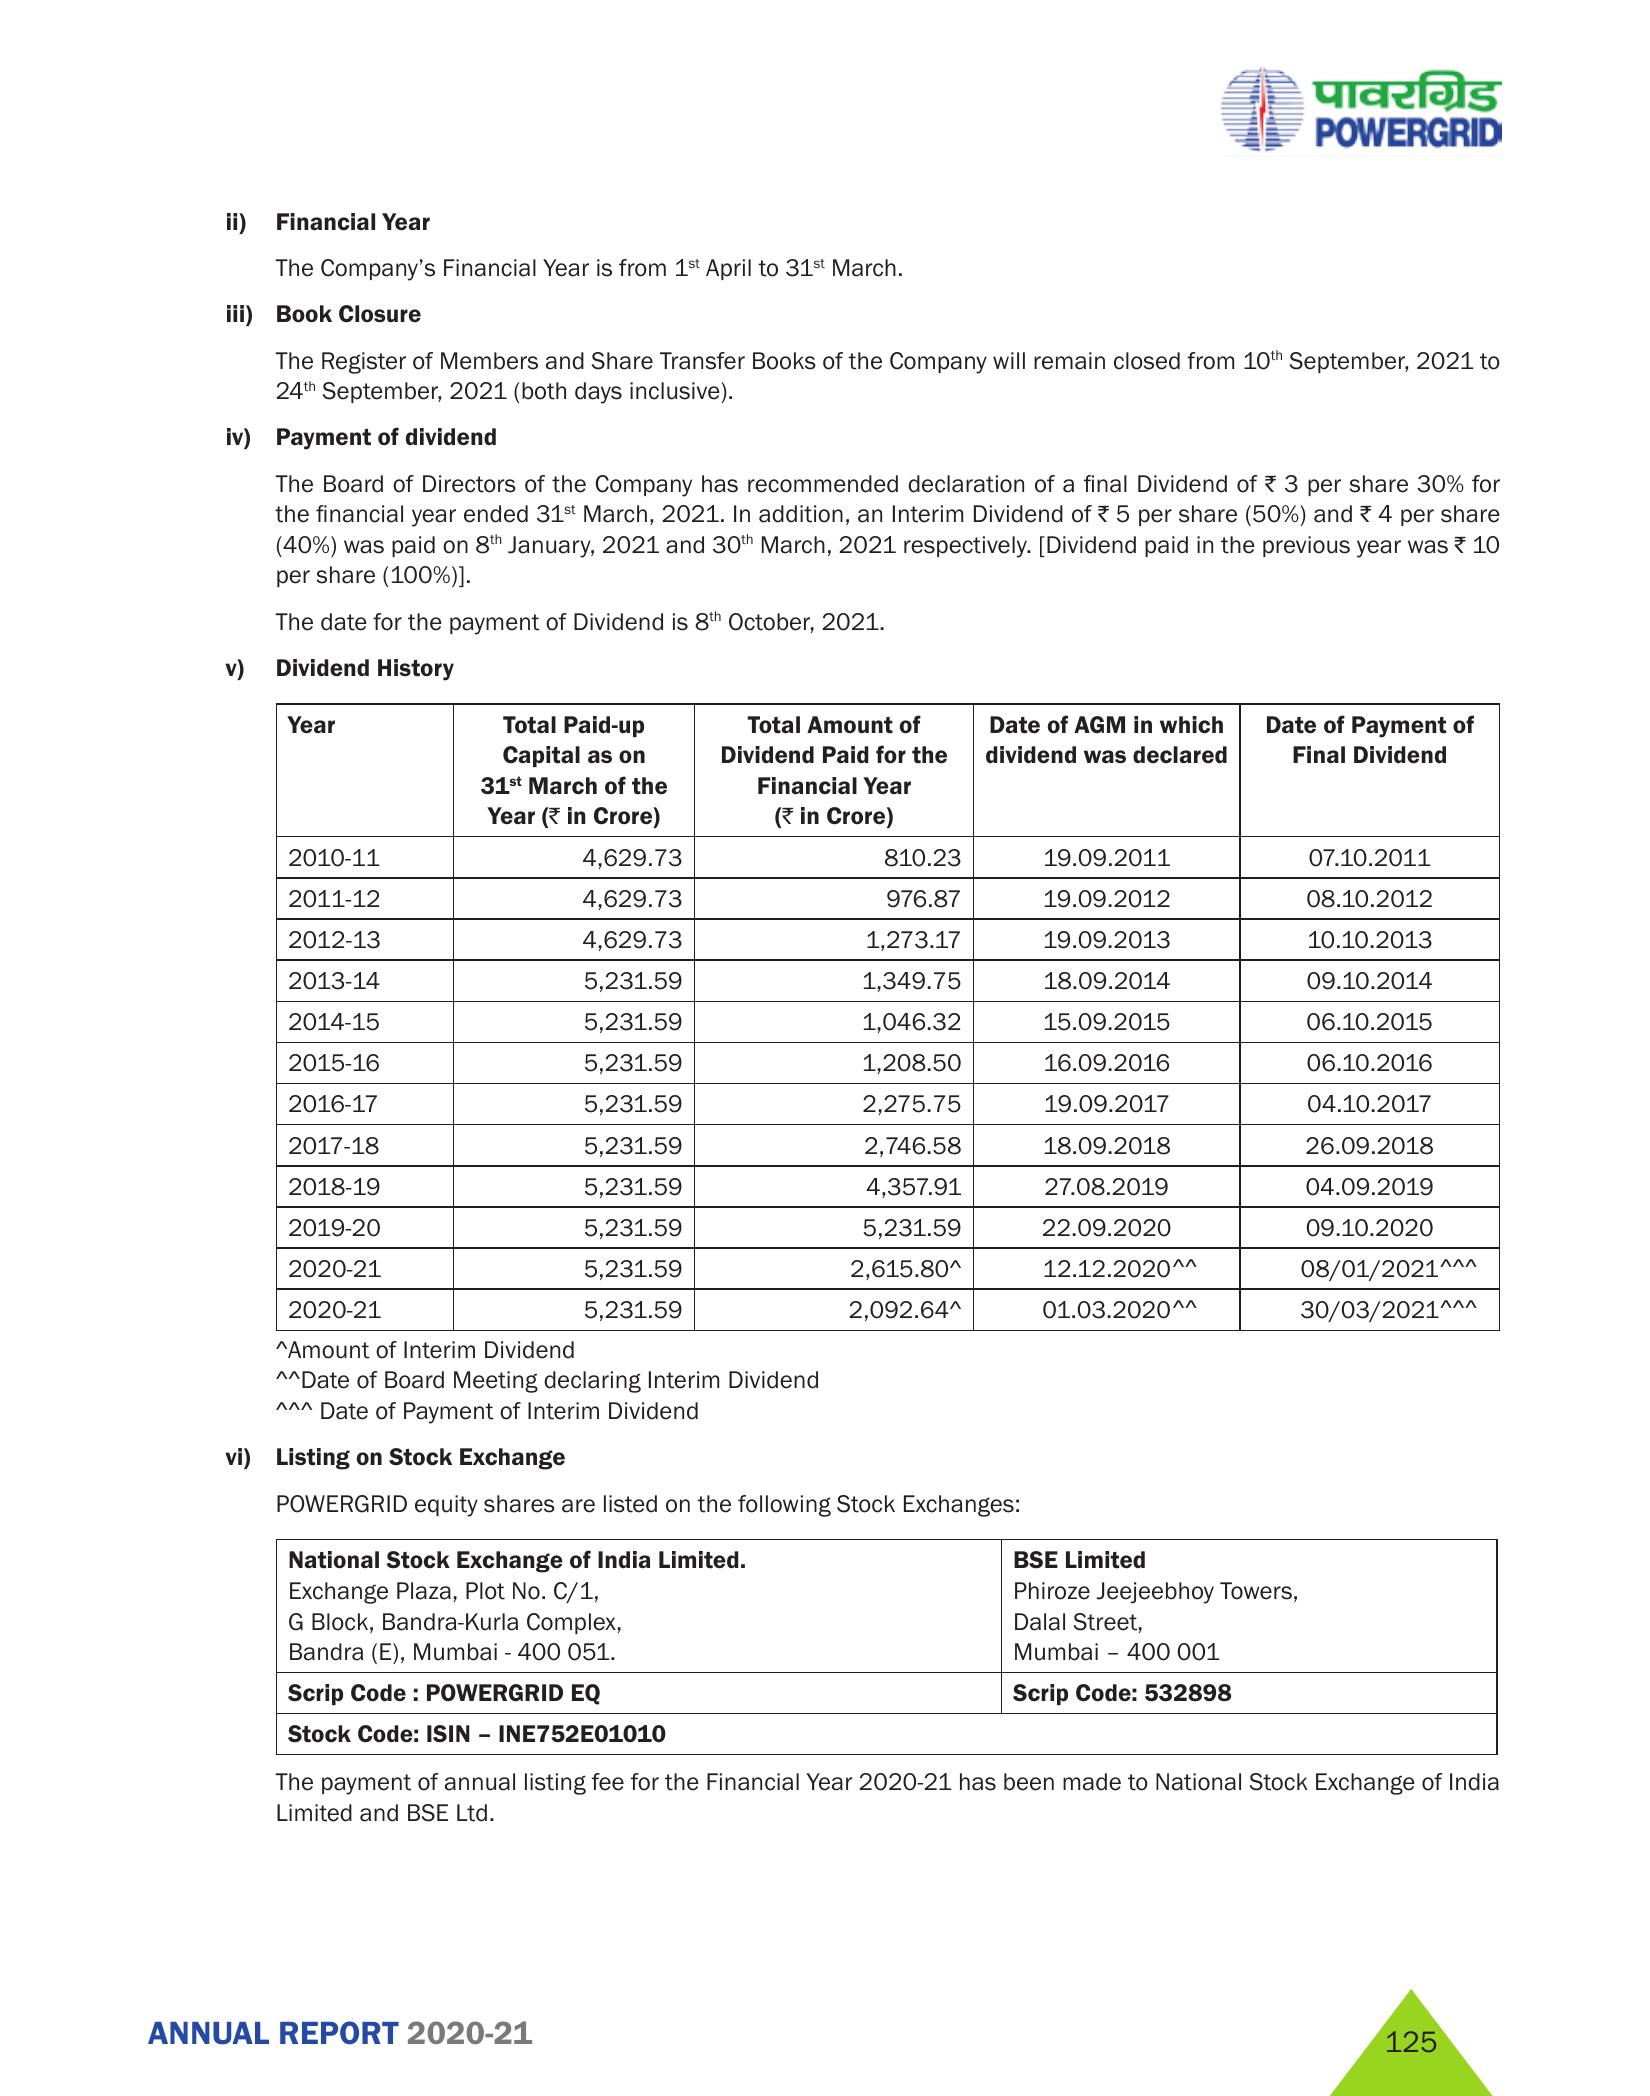Footer: (0, 1974, 1650, 2096)
Header: (0, 0, 1650, 180)
Table: (228, 708, 1533, 1329), (189, 1545, 1536, 1769)
